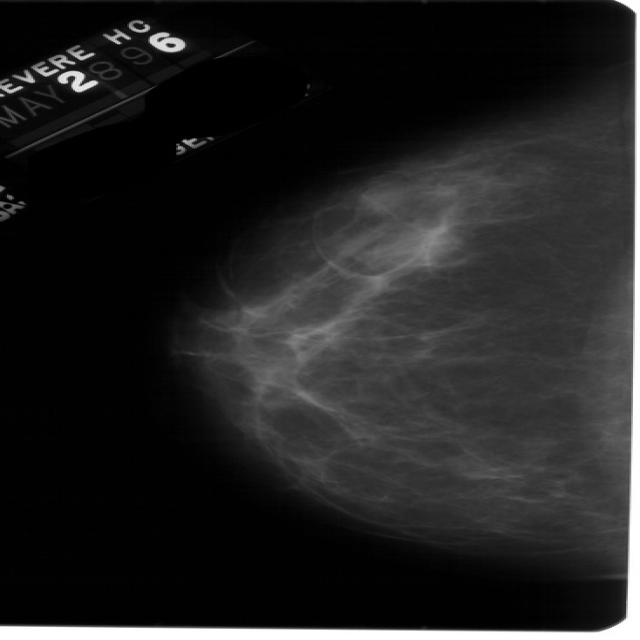tumour: (372, 229, 458, 263)
